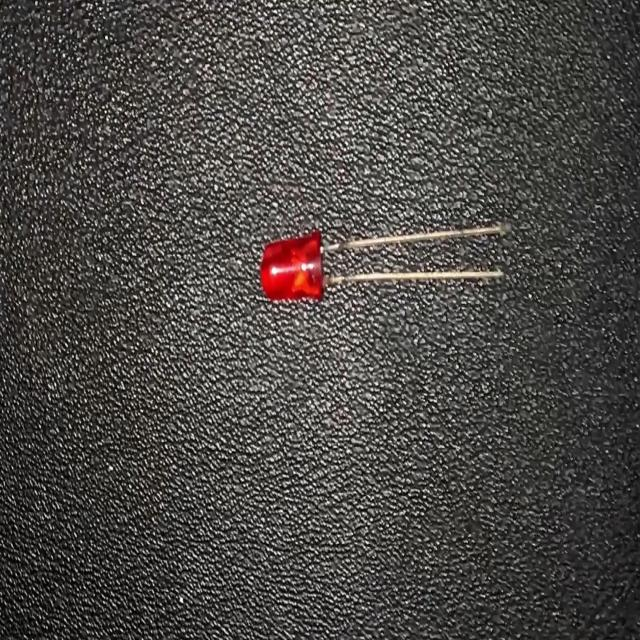LED: (259, 220, 505, 303)
